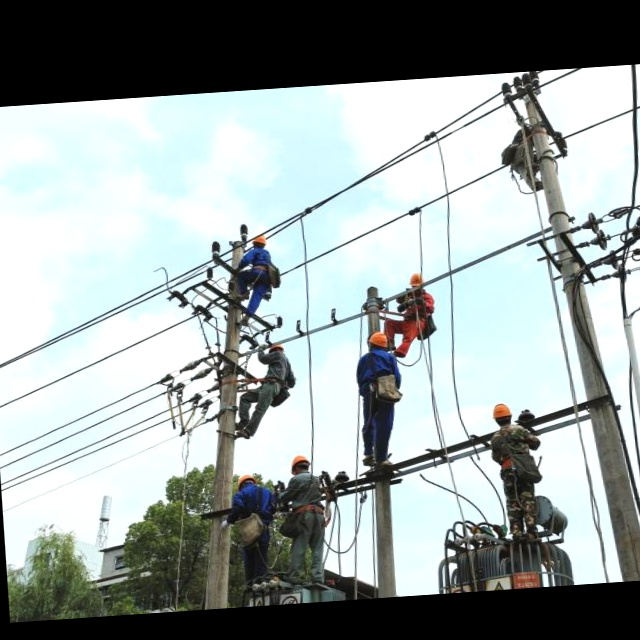Con_Casco: (490, 401, 512, 427), (287, 453, 312, 474), (367, 330, 388, 350)
